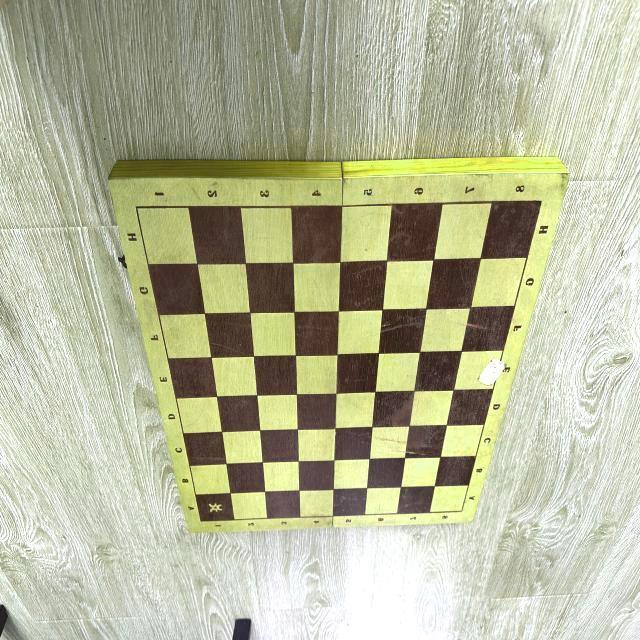chess-table-corners: (130, 201, 142, 216), (536, 195, 548, 208), (456, 506, 466, 518), (197, 518, 205, 526)
